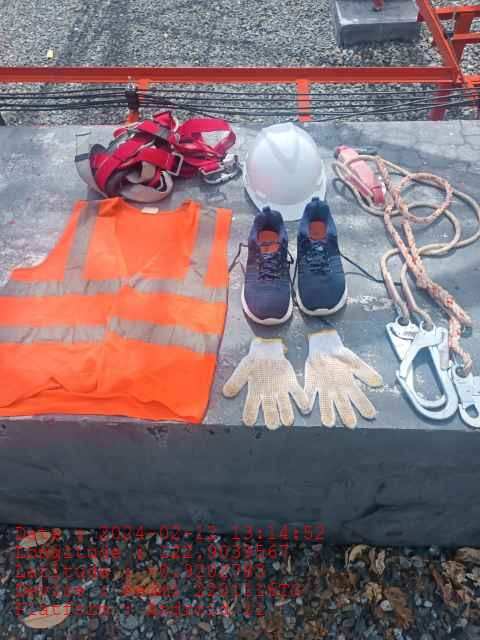HELM: (244, 122, 324, 211)
ROMPI: (1, 198, 230, 427)
SARUNG_TANGAN: (302, 329, 382, 429), (223, 338, 307, 429)
SEPATU: (244, 203, 348, 325)
TAMBANG_SLING: (381, 165, 480, 428)
